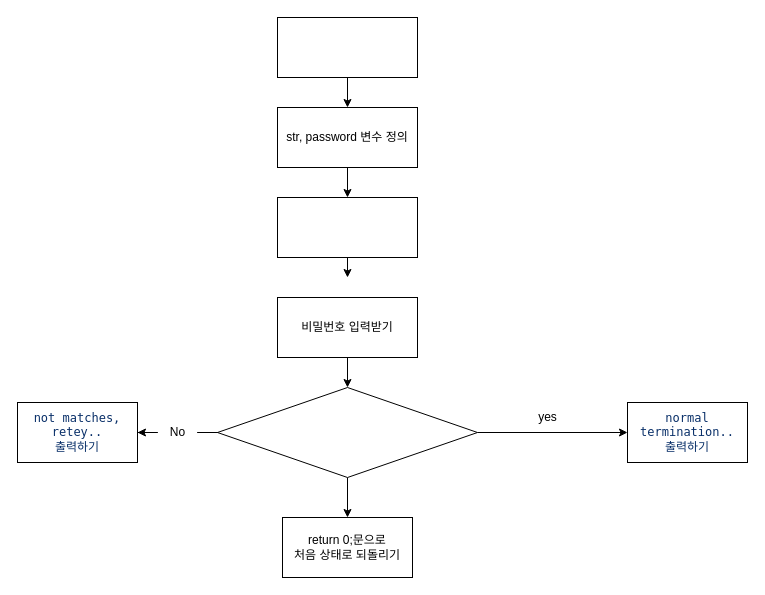
Image size: 765x595. Some labels were removed from this diagram. Here are the shapes that lost their labels. From the top down, the centre of each, then its label:
the point at 347,47: main문으로 함수 시작
the point at 347,227: 비밀번호 설정 (hello)
the point at 347,432: 옳은 비밀번호가 입력되었을 때
